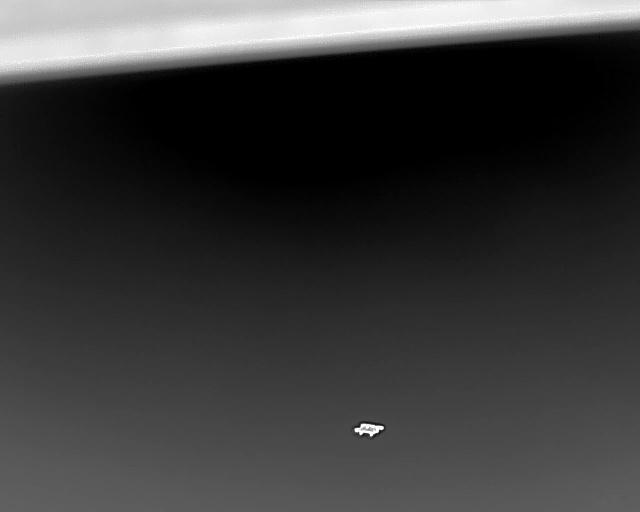fpv-drone: (353, 423, 385, 437)
